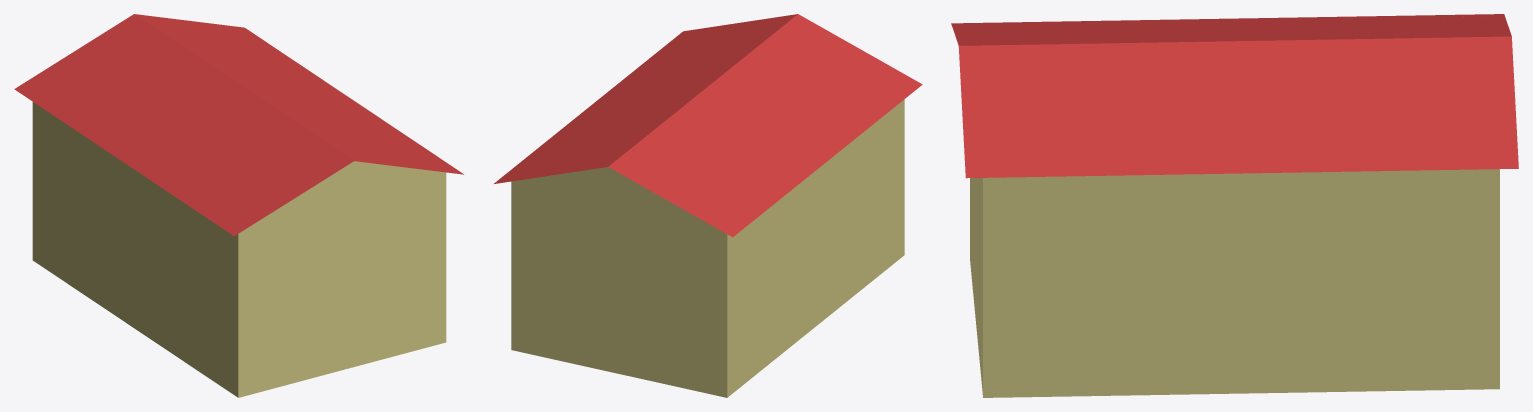
3 views of the same model, side by side, from view 1: azimuth 30°, elevation 25°; view 2: azimuth 150°, elevation 25°; view 3: azimuth 270°, elevation 25° (orthographic). The views are drawn at different scales.
Size of the model in its own units: 10.74 by 15.69 by 8.72.
